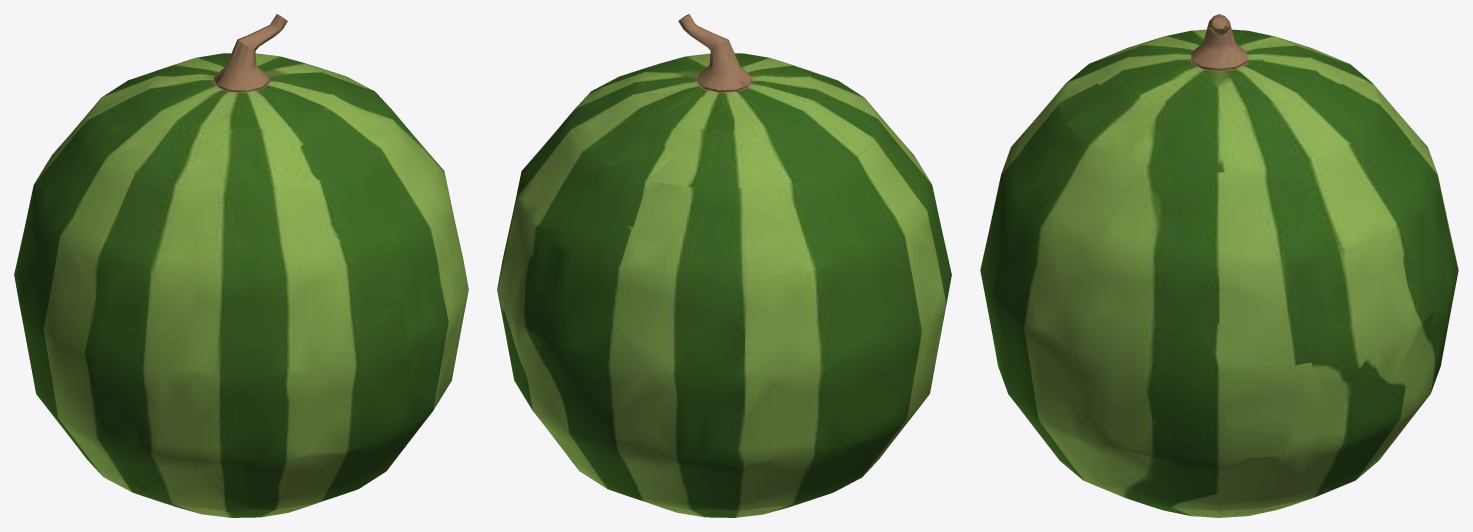
The model's file is watermelon.glb.
3 renders of one model, left to right at view 1: azimuth 30°, elevation 25°; view 2: azimuth 150°, elevation 25°; view 3: azimuth 270°, elevation 25°, orthographic. The views are drawn at different scales.
Parts seen in each view (by area): view 1: node_0; view 2: node_0; view 3: node_0.
Boxes of the visible parts, box(x1,y1,x2,y2) form: node_0: box(14, 14, 468, 517); node_0: box(497, 14, 951, 517); node_0: box(980, 14, 1458, 517).
Size of the model in its own units: 0.84 by 0.9538 by 0.8375.
1 material, 1 textured.
